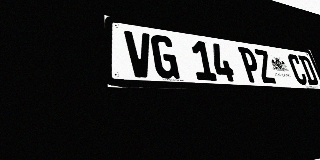1: (189, 40, 217, 81)
4: (209, 42, 236, 82)
C: (286, 53, 309, 85)
D: (298, 55, 319, 85)
G: (150, 34, 180, 79)
P: (237, 46, 263, 83)
V: (124, 30, 155, 78)
Z: (253, 49, 277, 84)
